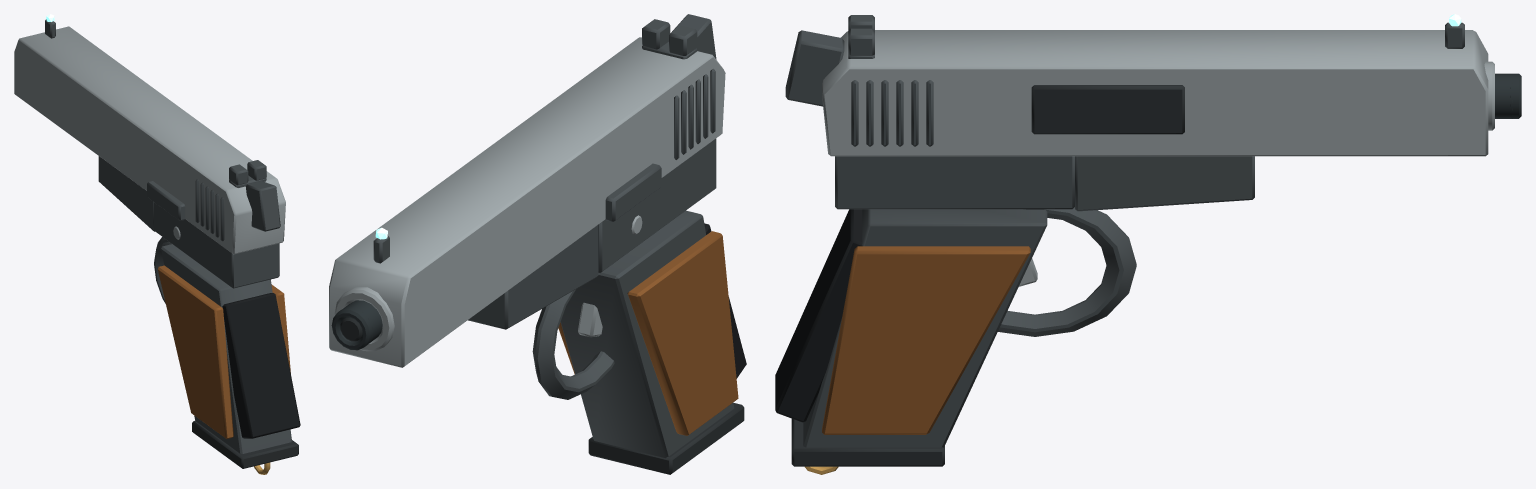
The model's file is W_Pistolet.glb.
The picture shows the model from 3 angles, left to right: view 1: azimuth 30°, elevation 25°; view 2: azimuth 150°, elevation 25°; view 3: azimuth 270°, elevation 25°; orthographic projection. The views are drawn at different scales.
Visible parts, largest first — view 1: W_Pistolet; view 2: W_Pistolet; view 3: W_Pistolet.
Boxes of the visible parts, left/top/right/bottom form: W_Pistolet: left=14, top=14, right=300, bottom=474; W_Pistolet: left=329, top=14, right=746, bottom=474; W_Pistolet: left=775, top=14, right=1521, bottom=474.
Bounding box in the file's own units: 0.0364 × 0.1523 × 0.2239.
